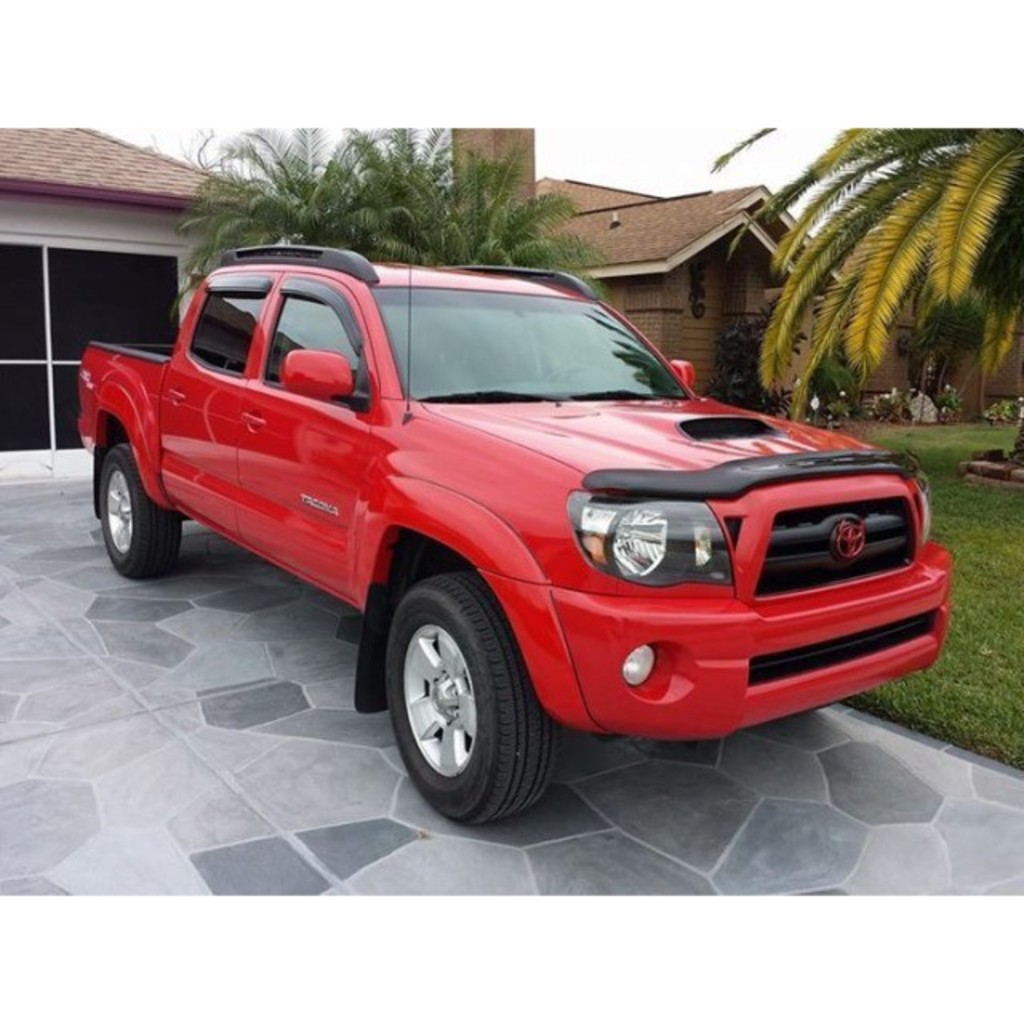Car: (73, 235, 956, 820)
